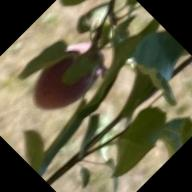Apples: (22, 32, 113, 122)
